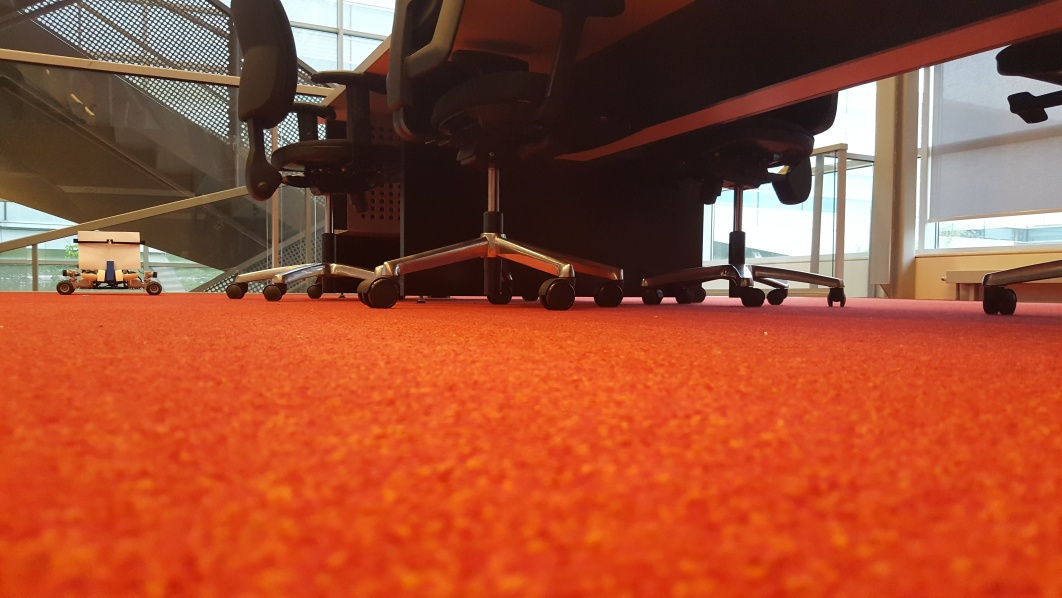car: (54, 227, 165, 296)
